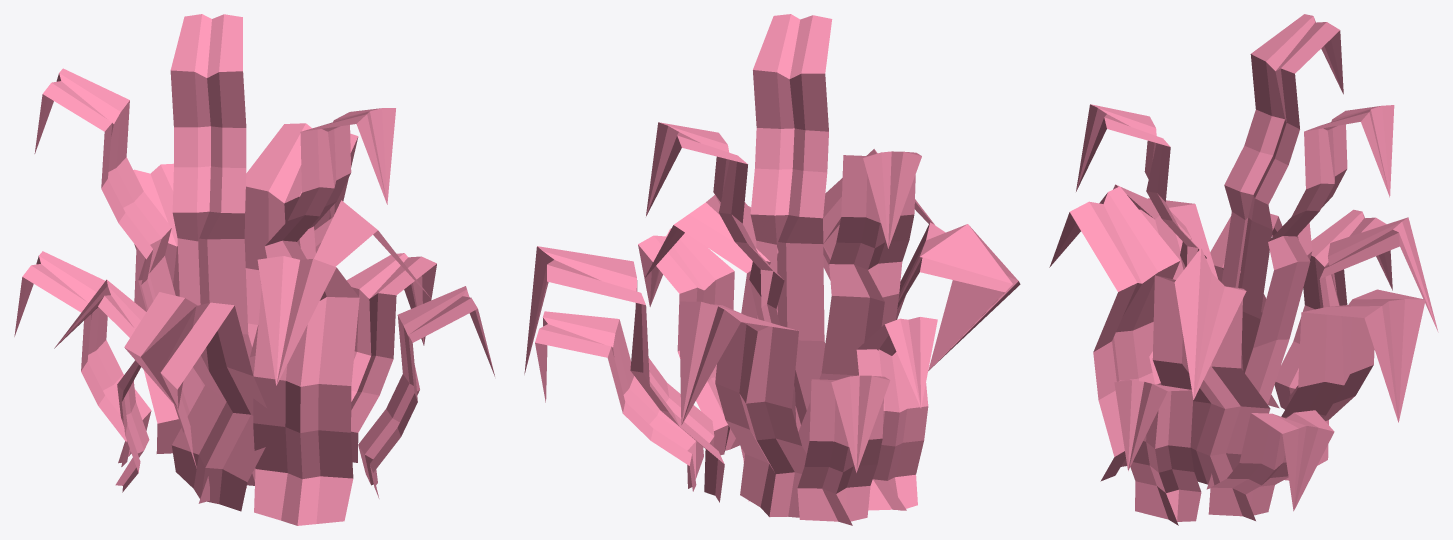
The model's file is seaweed2_pink.glb.
3 views of the same model, side by side, from view 1: azimuth 30°, elevation 25°; view 2: azimuth 150°, elevation 25°; view 3: azimuth 270°, elevation 25° (orthographic). The views are drawn at different scales.
Visible parts, largest first — view 1: Plane; view 2: Plane; view 3: Plane.
Part boxes in pixels (<box>): Plane: <box>14,14,494,525</box>; Plane: <box>524,14,1020,525</box>; Plane: <box>1049,14,1438,525</box>.
Size of the model in its own units: 39.2 by 40.59 by 36.27.
